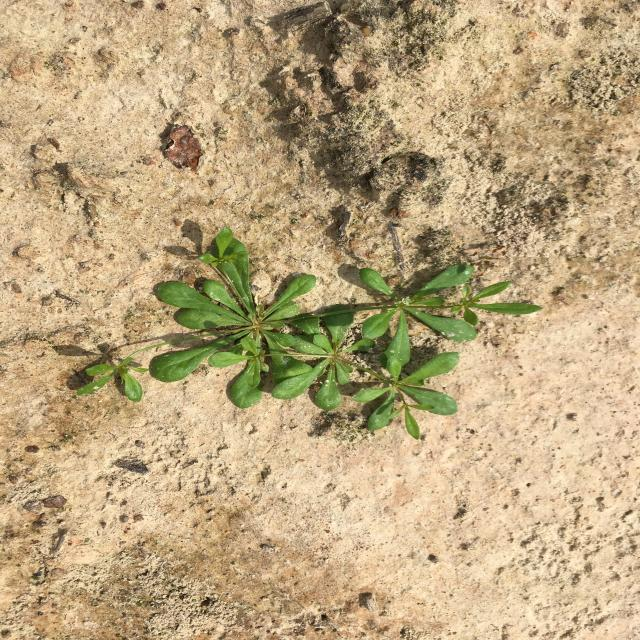Carpetweed: (76, 225, 544, 440)
